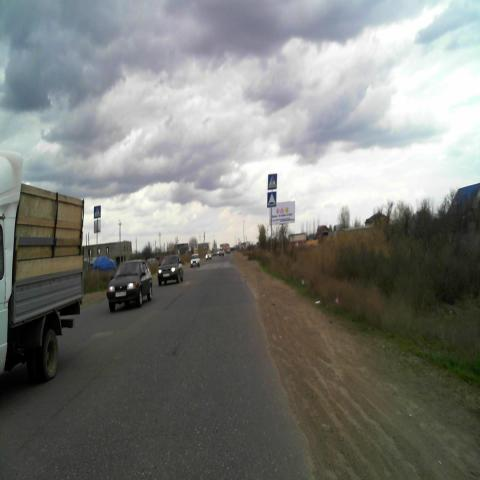5_20: (268, 192, 276, 206)
